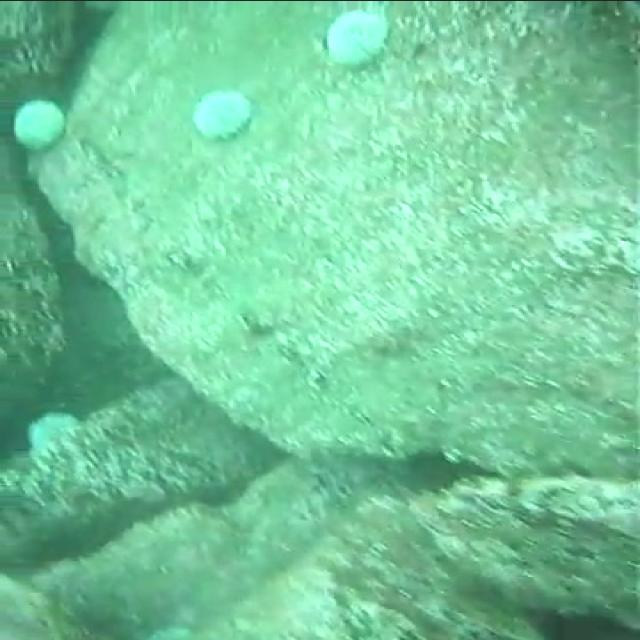Deniz Kestanesi: (175, 80, 264, 142), (311, 6, 398, 68), (13, 96, 70, 152)
